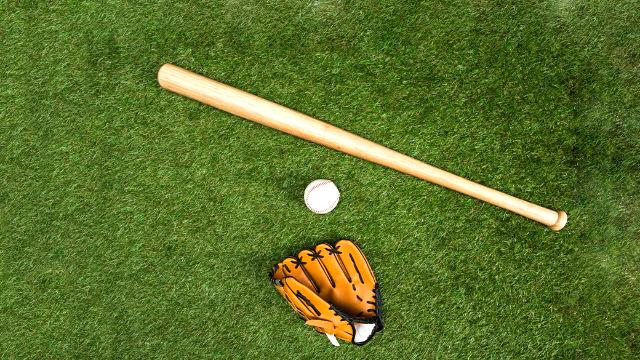baseball bat: (157, 62, 568, 232)
